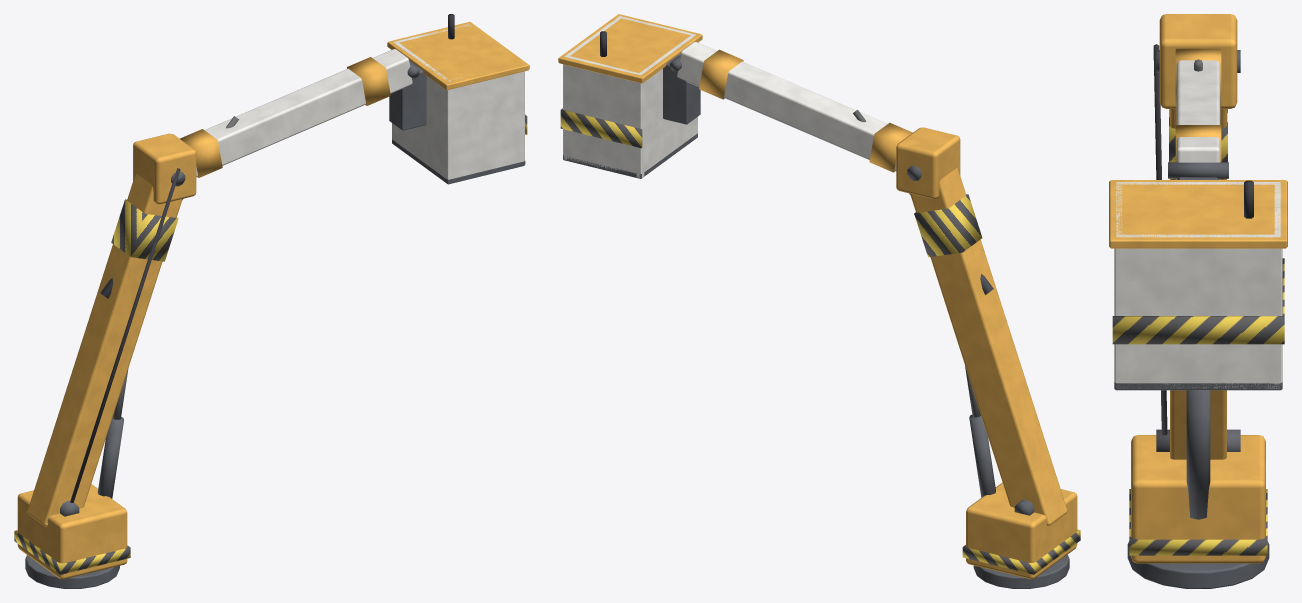
The model's file is Energia_BucketBoom.fbx.
3 views of the same model, side by side, from view 1: azimuth 30°, elevation 25°; view 2: azimuth 150°, elevation 25°; view 3: azimuth 270°, elevation 25° (orthographic). The views are drawn at different scales.
Parts seen in each view (by area): view 1: Energia_BucketBoom; view 2: Energia_BucketBoom; view 3: Energia_BucketBoom.
Part boxes in pixels (x1,y1,x2,y2): Energia_BucketBoom: (14, 14, 529, 588); Energia_BucketBoom: (558, 14, 1080, 588); Energia_BucketBoom: (1109, 14, 1287, 588).
Size of the model in its own units: 4.8 by 4.37 by 1.06.
1 material, 1 textured.
